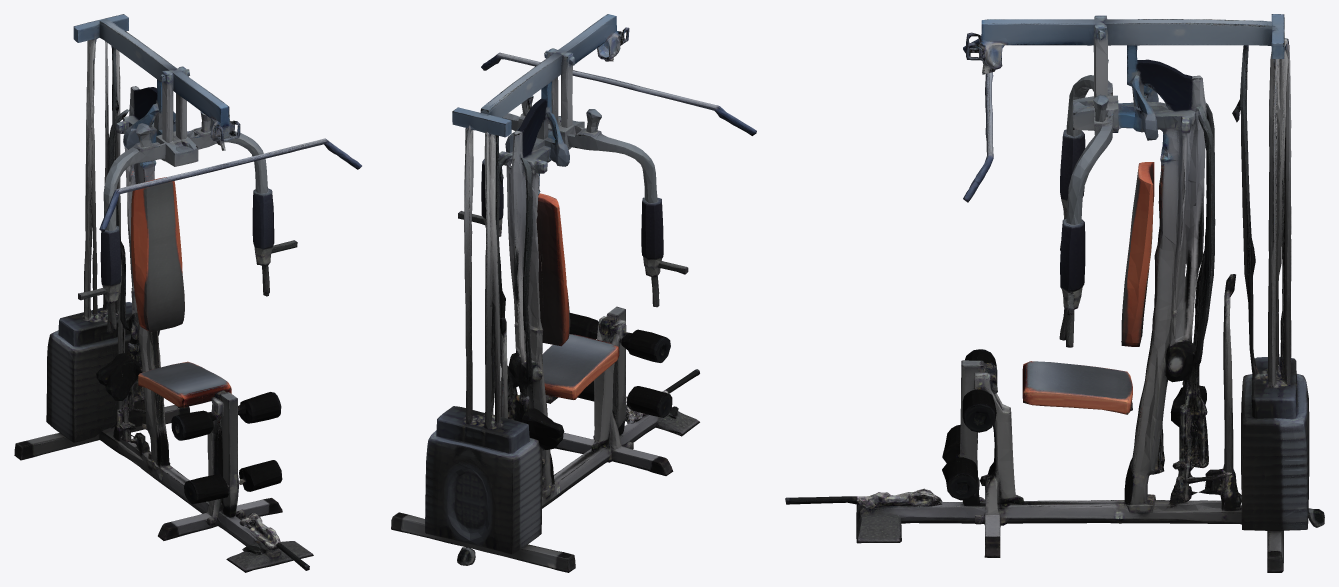
3 views of the same model, side by side, from view 1: azimuth 30°, elevation 25°; view 2: azimuth 150°, elevation 25°; view 3: azimuth 270°, elevation 25° (orthographic). The views are drawn at different scales.
Parts seen in each view (by area): view 1: world; view 2: world; view 3: world.
Boxes of the visible parts, left/top/right/bottom form: world: left=14, top=14, right=361, bottom=572; world: left=391, top=14, right=756, bottom=572; world: left=785, top=14, right=1324, bottom=572.
Size of the model in its own units: 0.6533 by 0.9998 by 0.9734.
Materials: 1 (1 with a texture image).
